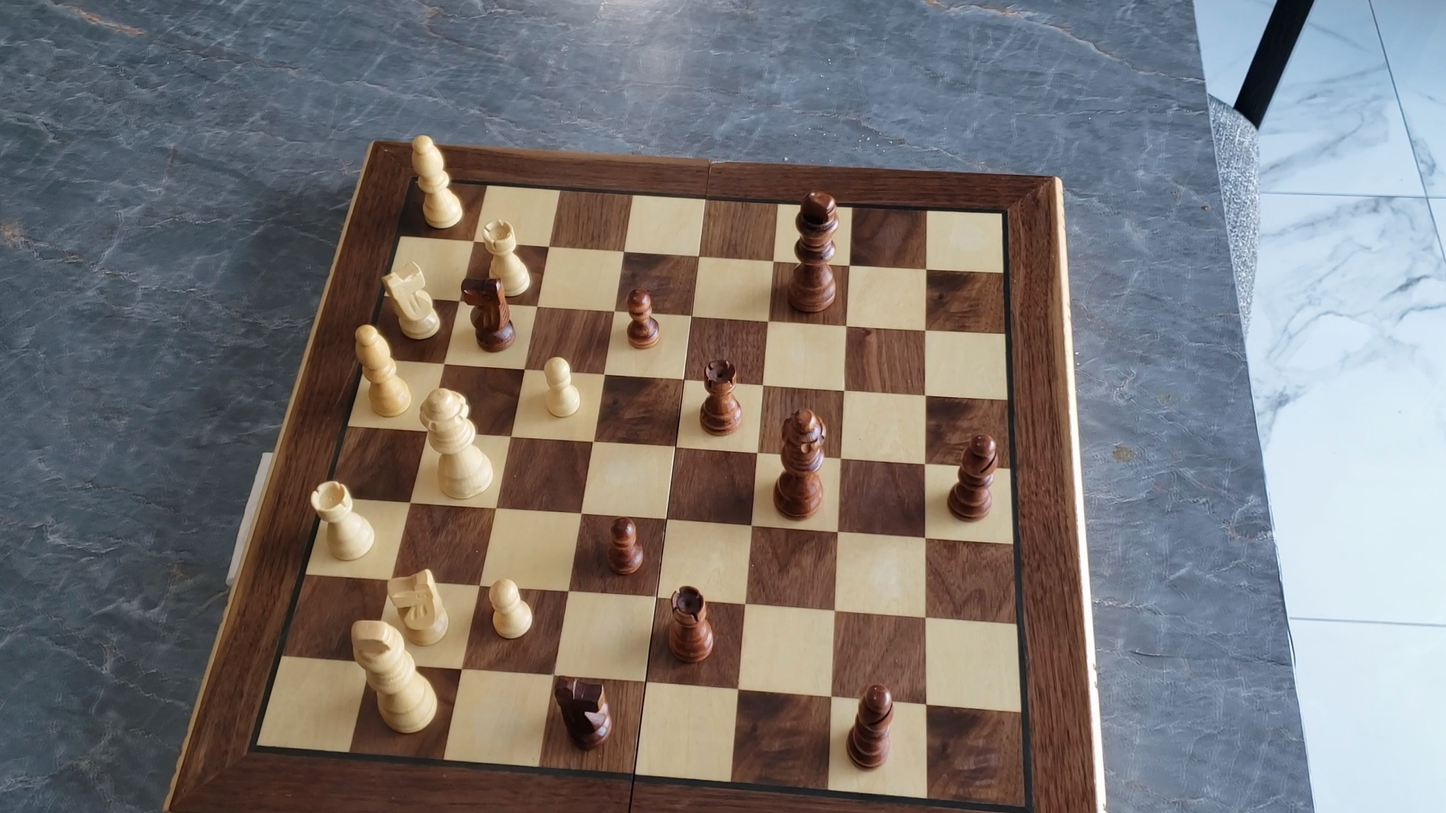black-bishop: (944, 422, 1004, 531), (844, 683, 898, 775)
black-king: (787, 185, 844, 314)
black-knight: (550, 672, 616, 753), (461, 275, 517, 353)
black-pawn: (603, 512, 648, 579), (624, 284, 662, 351)
black-queen: (773, 404, 830, 521)
black-rook: (664, 584, 716, 666), (698, 357, 745, 436)
white-bishop: (401, 131, 470, 232), (349, 322, 415, 419)
white-king: (345, 617, 443, 737)
white-knight: (381, 565, 455, 650), (380, 256, 444, 343)
white-pawn: (485, 574, 537, 642), (537, 353, 586, 422)
white-queen: (417, 386, 500, 504)
white-rook: (306, 478, 378, 565), (478, 216, 534, 300)
